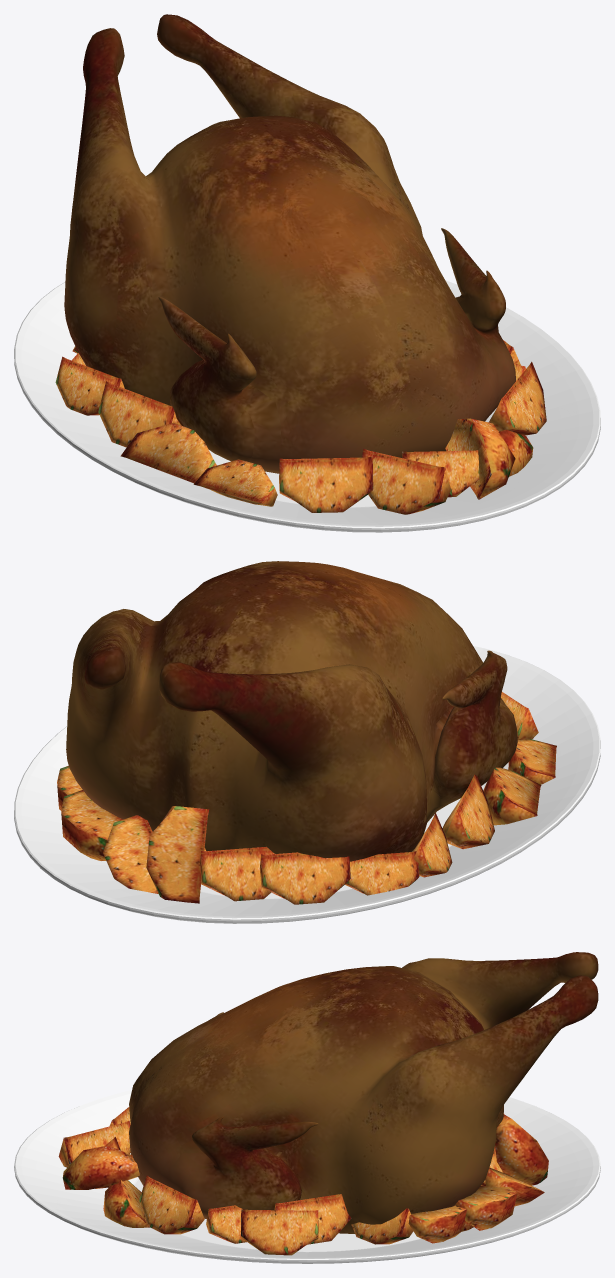
File: poulet.gltf
3 views of the same model, one above another, from view 1: azimuth 30°, elevation 25°; view 2: azimuth 150°, elevation 25°; view 3: azimuth 270°, elevation 25° (orthographic). The views are drawn at different scales.
Parts seen in each view (by area): view 1: frango, batata, Prato; view 2: frango, batata, Prato; view 3: frango, batata, Prato.
Boxes of the visible parts, x1,y1,x2,y2 form: frango: [64, 14, 515, 473]; batata: [55, 340, 546, 514]; Prato: [14, 280, 600, 532]; frango: [66, 561, 517, 861]; batata: [57, 692, 556, 904]; Prato: [14, 646, 600, 923]; frango: [129, 952, 598, 1233]; batata: [58, 1107, 548, 1255]; Prato: [14, 1090, 600, 1263].
Size of the model in its own units: 0.2592 by 0.151 by 0.3398.
Materials: 3 (2 with a texture image).
